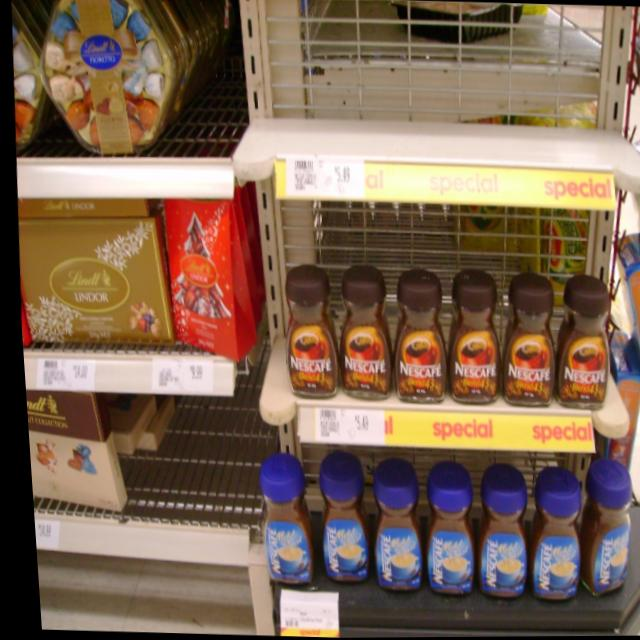q13: (486, 269, 558, 413), (436, 266, 504, 401), (382, 276, 445, 406), (272, 267, 335, 393), (545, 274, 607, 402), (327, 264, 386, 396)
